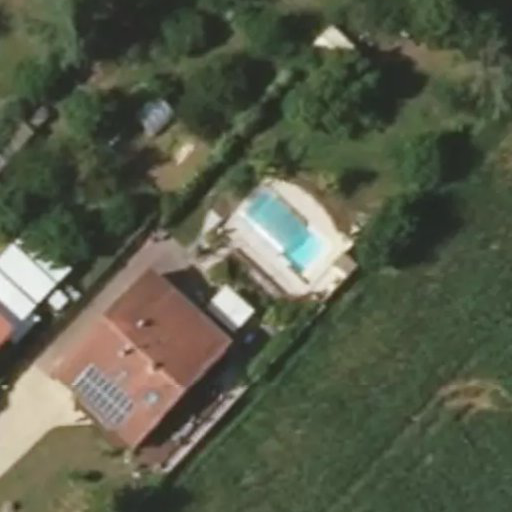pool: (210, 232, 301, 251)
